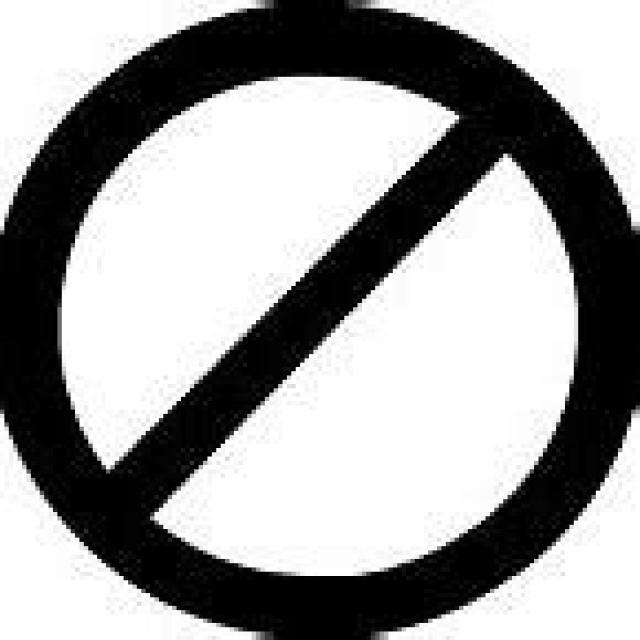restriction ends: (17, 21, 617, 614)
